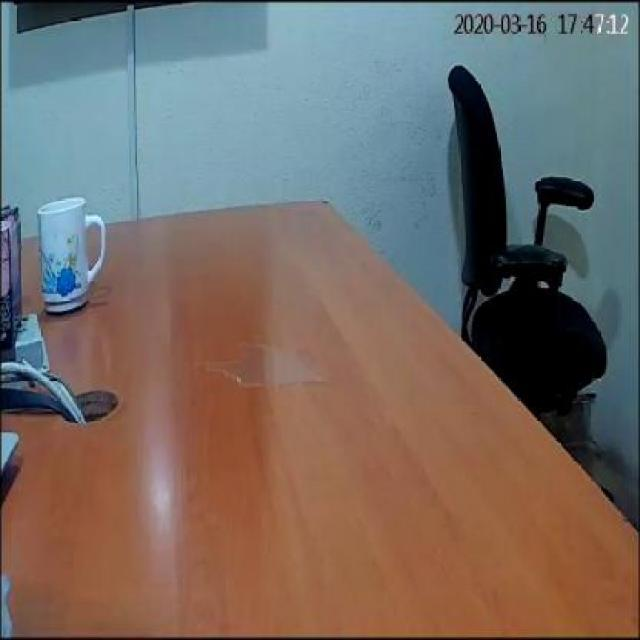spill: (204, 345, 330, 390)
